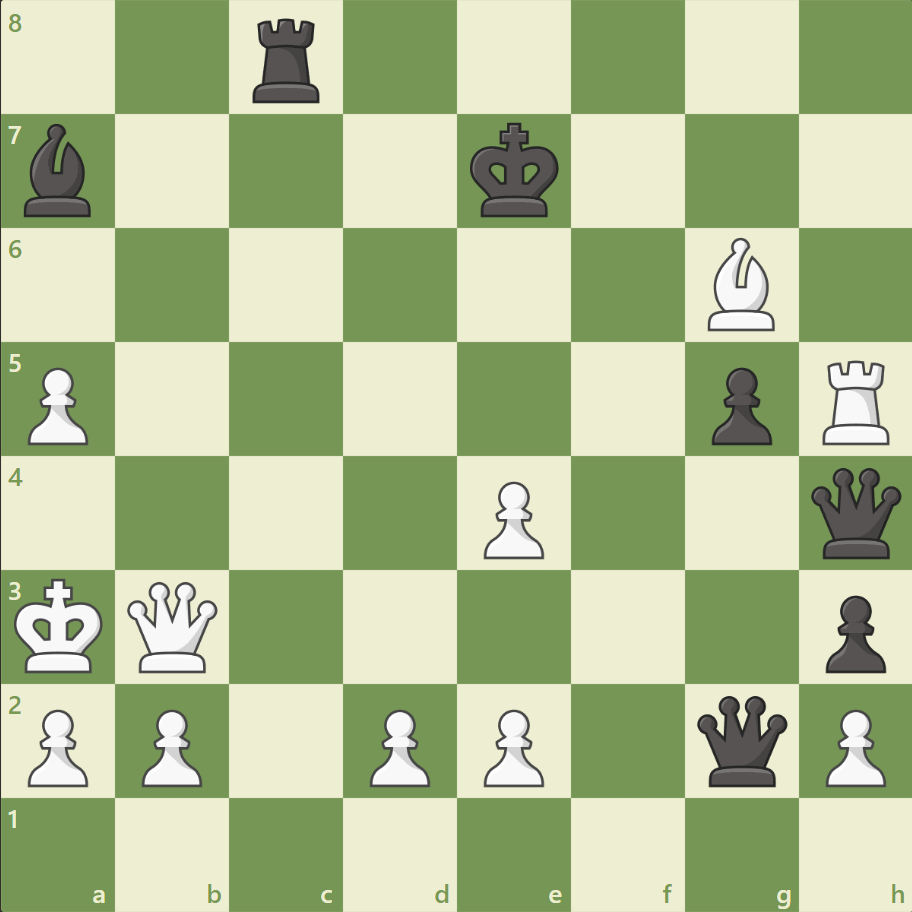B: (698, 233, 782, 336)
K: (11, 571, 111, 679)
P: (20, 359, 95, 450), (474, 473, 549, 564), (20, 700, 95, 791), (133, 700, 208, 791), (474, 700, 549, 791), (361, 700, 435, 791), (815, 700, 889, 791)
Q: (124, 576, 223, 676)
R: (814, 352, 897, 449)
b: (17, 120, 101, 222)
k: (465, 117, 565, 225)
p: (701, 359, 776, 450), (815, 586, 889, 677)
q: (805, 463, 904, 562), (691, 690, 790, 789)
r: (246, 12, 329, 109)
